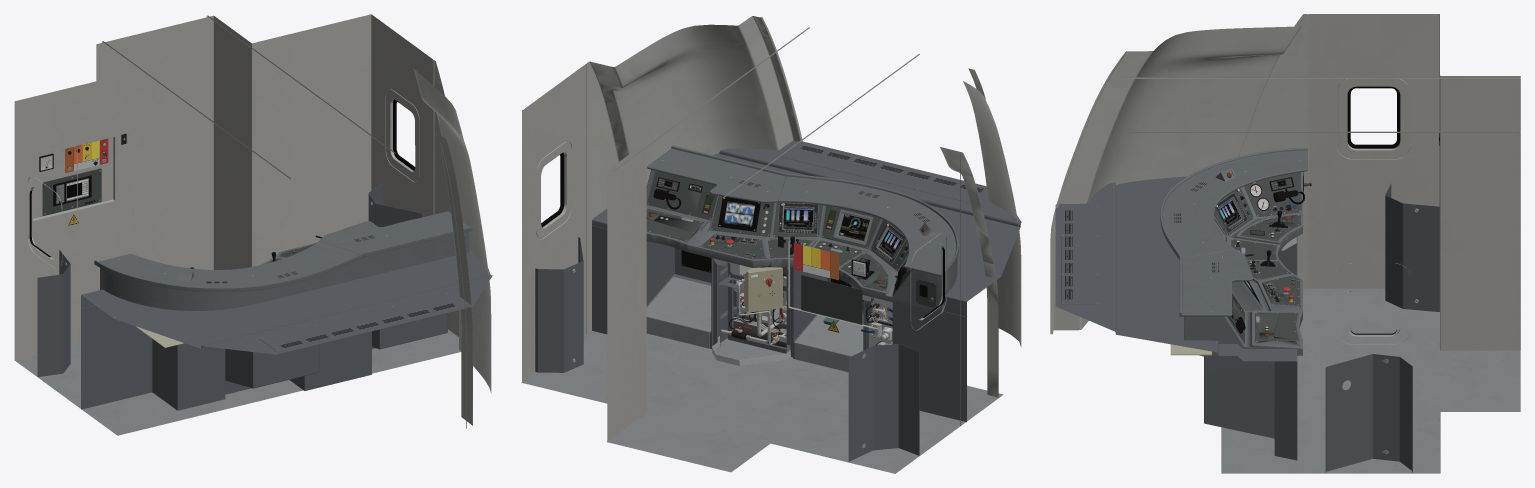
File: containment_console.glb
3 views of the same model, side by side, from view 1: azimuth 30°, elevation 25°; view 2: azimuth 150°, elevation 25°; view 3: azimuth 270°, elevation 25° (orthographic). The views are drawn at different scales.
Visible parts, largest first — view 1: Cabin_M_MetalPainted_Light_0, Console_M_MetalPainted_DarkBlue_0, Console_M_Fiberglass_Table_0, Cabin_M_Fiberglass_Cabin_0, Cabin_M_Linoleum_0, Console_M_MetalPainted_DarkGreen_0, Labels_M_Labels_0, Decals_M_Decals_0, Cabin_M_MetalGrainy_Black_0; view 2: Console_M_MetalPainted_DarkBlue_0, Cabin_M_Linoleum_0, Cabin_M_Fiberglass_Cabin_0, Cabin_M_MetalPainted_Light_0, Console_M_Fiberglass_Table_0, Console_M_MetalPainted_DarkGreen_0, UnderConsole_M_UnderConsole_a_0, UnderConsole_M_UnderConsole_b_0, Labels_M_Labels_0, Controls_M_Controls_0, Cabin_M_MetalGrainy_Black_0, Decals_M_Decals_0 (+5 smaller); view 3: Cabin_M_MetalPainted_Light_0, Console_M_MetalPainted_DarkBlue_0, Cabin_M_Fiberglass_Cabin_0, Cabin_M_Linoleum_0, Console_M_Fiberglass_Table_0, Console_M_MetalPainted_DarkGreen_0, Decals_M_Decals_0, Cabin_M_MetalGrainy_Black_0, Controls_M_Controls_0, Labels_M_Labels_0.
Part boxes in pixels (<box>): Cabin_M_MetalPainted_Light_0: <box>14,14,434,406</box>; Console_M_MetalPainted_DarkBlue_0: <box>37,183,492,410</box>; Console_M_Fiberglass_Table_0: <box>94,211,472,310</box>; Cabin_M_Fiberglass_Cabin_0: <box>102,15,491,428</box>; Cabin_M_Linoleum_0: <box>14,329,460,435</box>; Console_M_MetalPainted_DarkGreen_0: <box>42,168,313,263</box>; Labels_M_Labels_0: <box>56,138,108,203</box>; Decals_M_Decals_0: <box>31,136,464,350</box>; Cabin_M_MetalGrainy_Black_0: <box>29,99,415,257</box>; Console_M_MetalPainted_DarkBlue_0: <box>535,140,1021,461</box>; Cabin_M_Linoleum_0: <box>521,277,1003,473</box>; Cabin_M_Fiberglass_Cabin_0: <box>587,16,1021,397</box>; Cabin_M_MetalPainted_Light_0: <box>522,63,960,441</box>; Console_M_Fiberglass_Table_0: <box>646,145,958,313</box>; Console_M_MetalPainted_DarkGreen_0: <box>646,171,936,324</box>; UnderConsole_M_UnderConsole_a_0: <box>721,267,786,345</box>; UnderConsole_M_UnderConsole_b_0: <box>712,258,892,365</box>; Labels_M_Labels_0: <box>657,178,909,343</box>; Controls_M_Controls_0: <box>648,194,933,347</box>; Cabin_M_MetalGrainy_Black_0: <box>541,152,944,317</box>; Decals_M_Decals_0: <box>592,146,998,357</box>; Cabin_M_MetalPainted_Light_0: <box>1307,14,1520,350</box>; Console_M_MetalPainted_DarkBlue_0: <box>1055,176,1439,472</box>; Cabin_M_Fiberglass_Cabin_0: <box>1050,14,1520,334</box>; Cabin_M_Linoleum_0: <box>1221,288,1520,473</box>; Console_M_Fiberglass_Table_0: <box>1160,147,1307,355</box>; Console_M_MetalPainted_DarkGreen_0: <box>1214,171,1303,343</box>; Decals_M_Decals_0: <box>1062,160,1301,360</box>; Cabin_M_MetalGrainy_Black_0: <box>1244,86,1400,334</box>; Controls_M_Controls_0: <box>1226,133,1439,336</box>; Labels_M_Labels_0: <box>1215,178,1292,324</box>.
Bounding box in the file's own units: 2.57 × 1.74 × 2.69.
26 materials, 18 textured.
